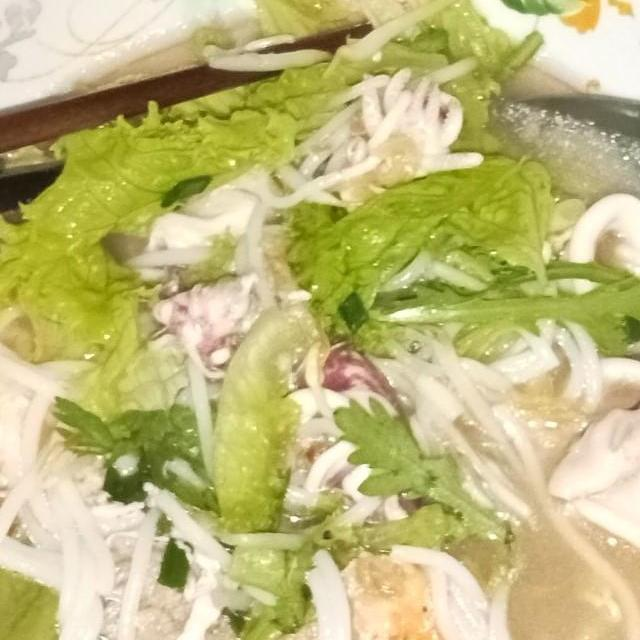bun: (0, 257, 366, 640), (362, 298, 640, 640)
muc: (274, 330, 429, 535), (316, 63, 491, 210), (537, 378, 640, 568), (133, 264, 275, 382), (541, 181, 640, 315)
trung: (291, 543, 472, 640), (0, 370, 43, 611)
